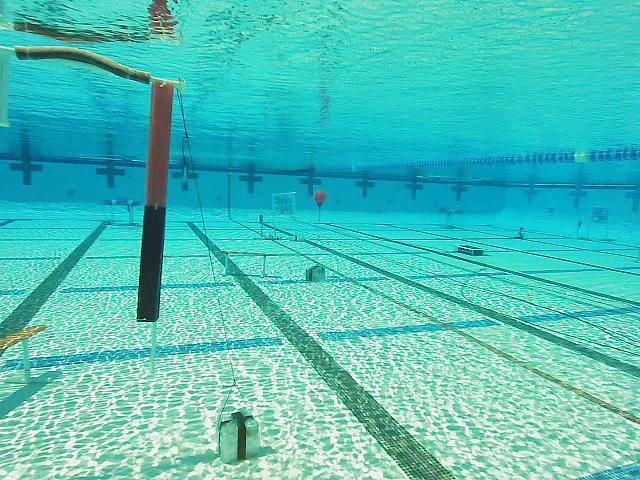buoy: (315, 190, 328, 211)
gate_leg_r: (135, 79, 175, 324)
torpedo: (271, 192, 297, 218)
